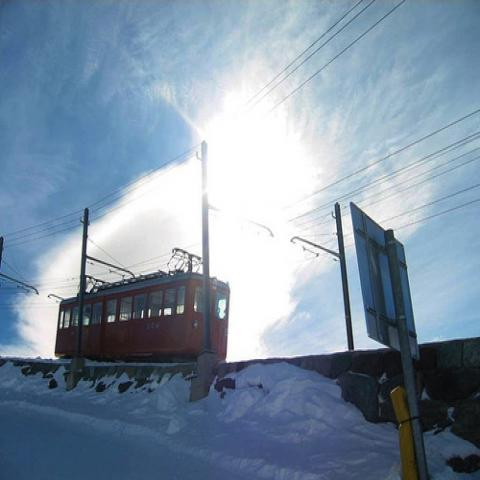bus: (56, 276, 230, 360)
